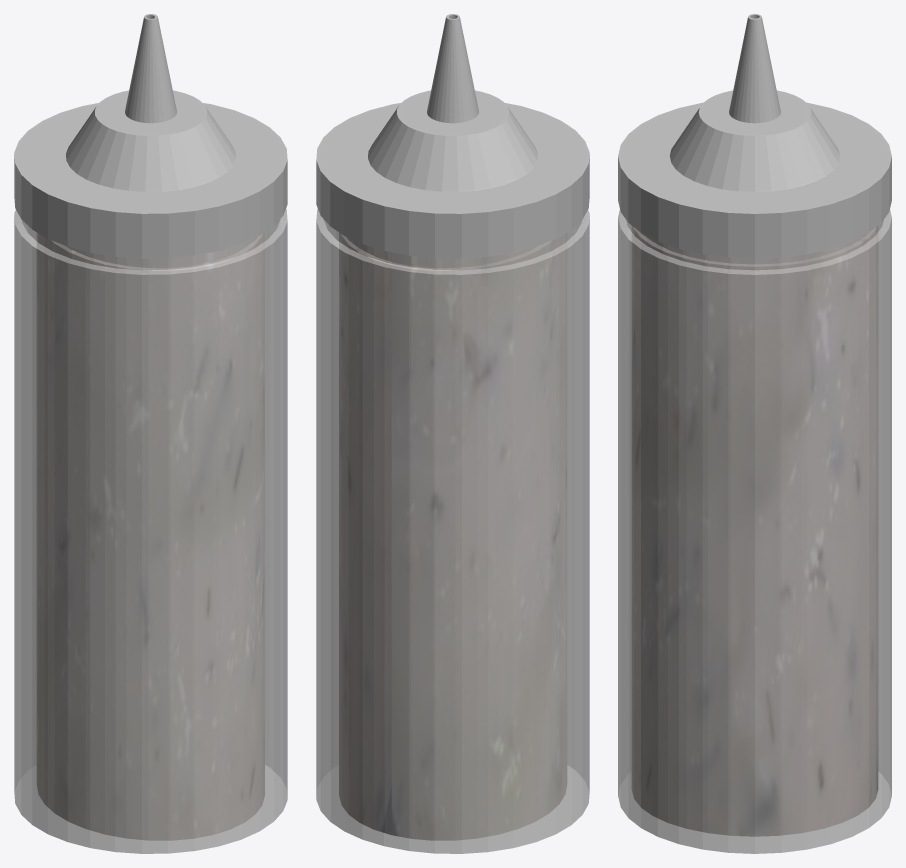
File: sausfles_knoflook.glb
3 renders of one model, left to right at view 1: azimuth 30°, elevation 25°; view 2: azimuth 150°, elevation 25°; view 3: azimuth 270°, elevation 25°, orthographic.
Parts seen in each view (by area): view 1: Cylinder, Cylinder.002; view 2: Cylinder, Cylinder.002; view 3: Cylinder, Cylinder.002.
Boxes of the visible parts, <box> form: Cylinder: <box>14,14,287,853</box>; Cylinder.002: <box>37,233,264,840</box>; Cylinder: <box>316,14,589,853</box>; Cylinder.002: <box>339,233,566,840</box>; Cylinder: <box>618,14,891,853</box>; Cylinder.002: <box>632,226,877,836</box>.
Size of the model in its own units: 0.5817 by 1.83 by 0.5817.
3 materials, 3 textured.
